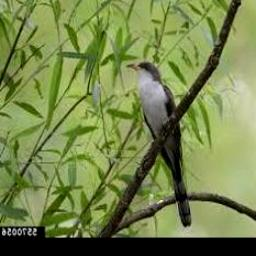Cuckoo: (127, 61, 192, 227)
